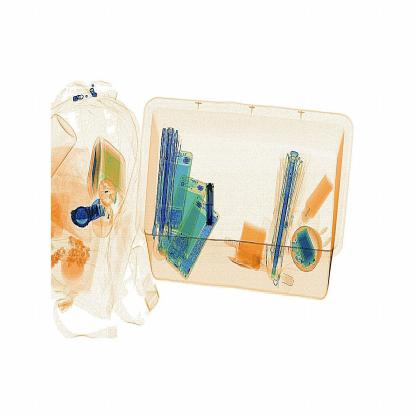scissors: (200, 176, 221, 231)
